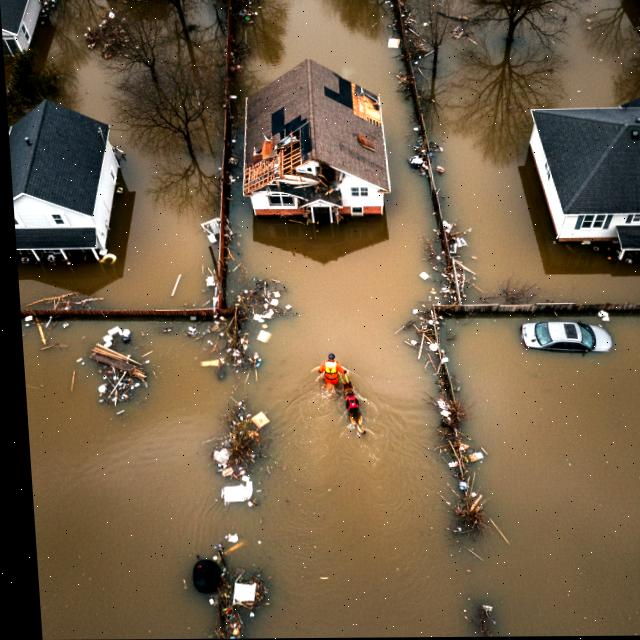dog: (340, 380, 371, 436)
rescuer: (309, 345, 355, 395)
